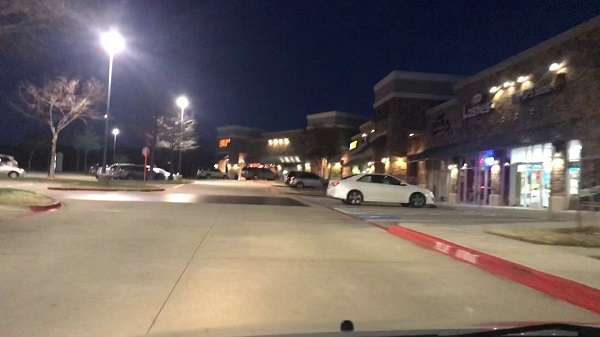car: (327, 171, 436, 210), (111, 163, 163, 180), (287, 172, 326, 189), (1, 157, 23, 178)
